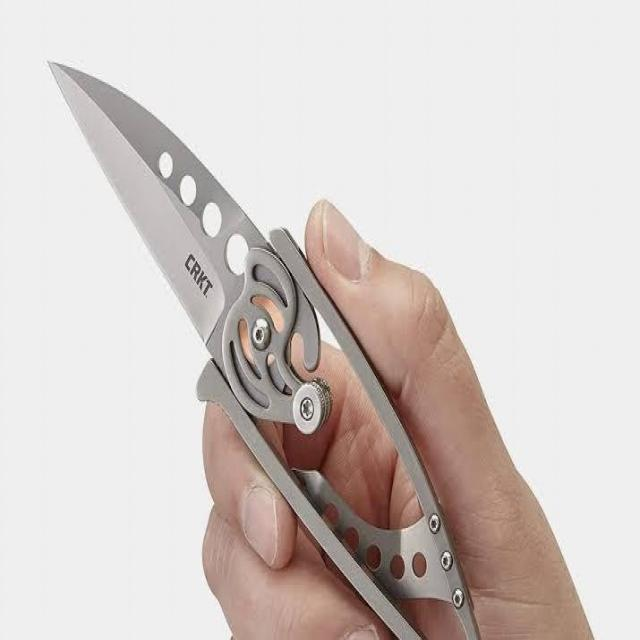knife: (46, 61, 276, 354)
